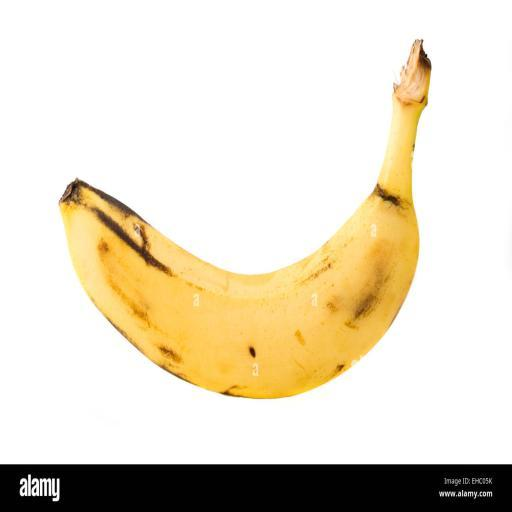banana: (60, 41, 430, 397)
